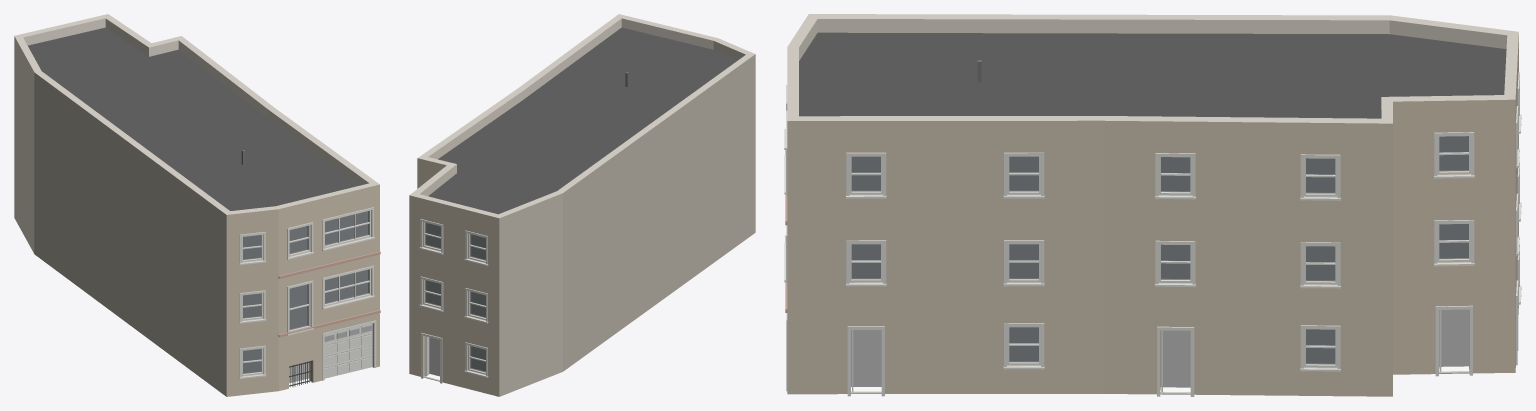
Rendered from exterior.glb.
3 views of the same model, side by side, from view 1: azimuth 30°, elevation 25°; view 2: azimuth 150°, elevation 25°; view 3: azimuth 270°, elevation 25° (orthographic). The views are drawn at different scales.
Visible parts, largest first — view 1: shell, roof, glazing, shadow-proxy, trim, doors, frames; view 2: shell, roof, shadow-proxy, glazing, trim, frames; view 3: shell, roof, shadow-proxy, glazing, trim, frames, doors.
Part boxes in pixels (x1,y1,x2,y2): shell: (14, 14, 379, 396); roof: (28, 27, 359, 210); glazing: (243, 211, 368, 373); shadow-proxy: (243, 211, 367, 383); trim: (239, 207, 380, 379); doors: (289, 320, 376, 387); frames: (242, 210, 371, 376); shell: (409, 14, 755, 396); roof: (428, 27, 737, 214); shadow-proxy: (426, 223, 485, 376); glazing: (425, 222, 485, 372); trim: (419, 219, 488, 383); frames: (423, 222, 485, 374); shell: (787, 14, 1518, 396); roof: (799, 32, 1506, 118); shadow-proxy: (851, 136, 1468, 387); glazing: (851, 136, 1468, 364); trim: (784, 72, 1521, 396); frames: (849, 135, 1471, 367); doors: (786, 310, 1469, 394).
Bounding box in the file's own units: 7.69 × 9.15 × 21.7.
